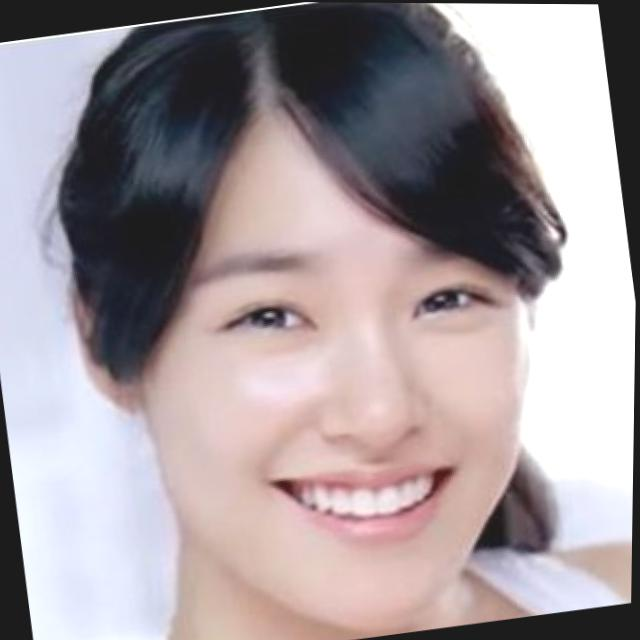face: (74, 77, 576, 640)
